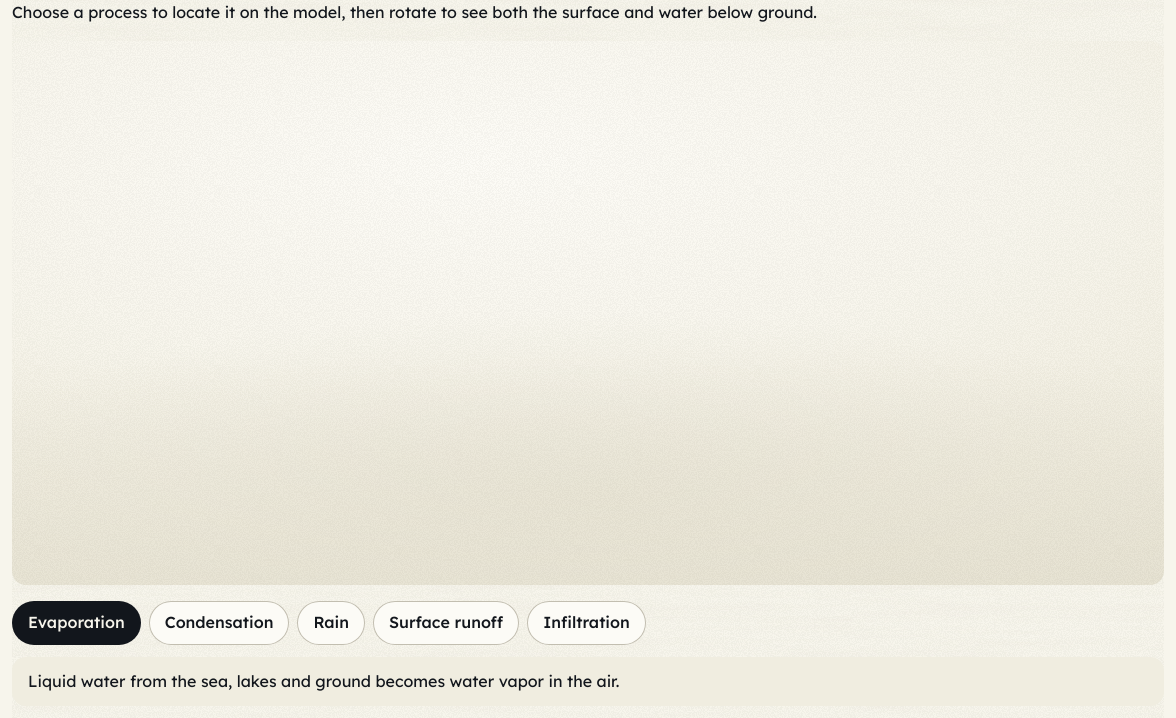
locates the selected process, rotates, and handles context loss
Click the button "Rain": (331, 623) left=297, top=601, right=365, bottom=645
(page scrolled)
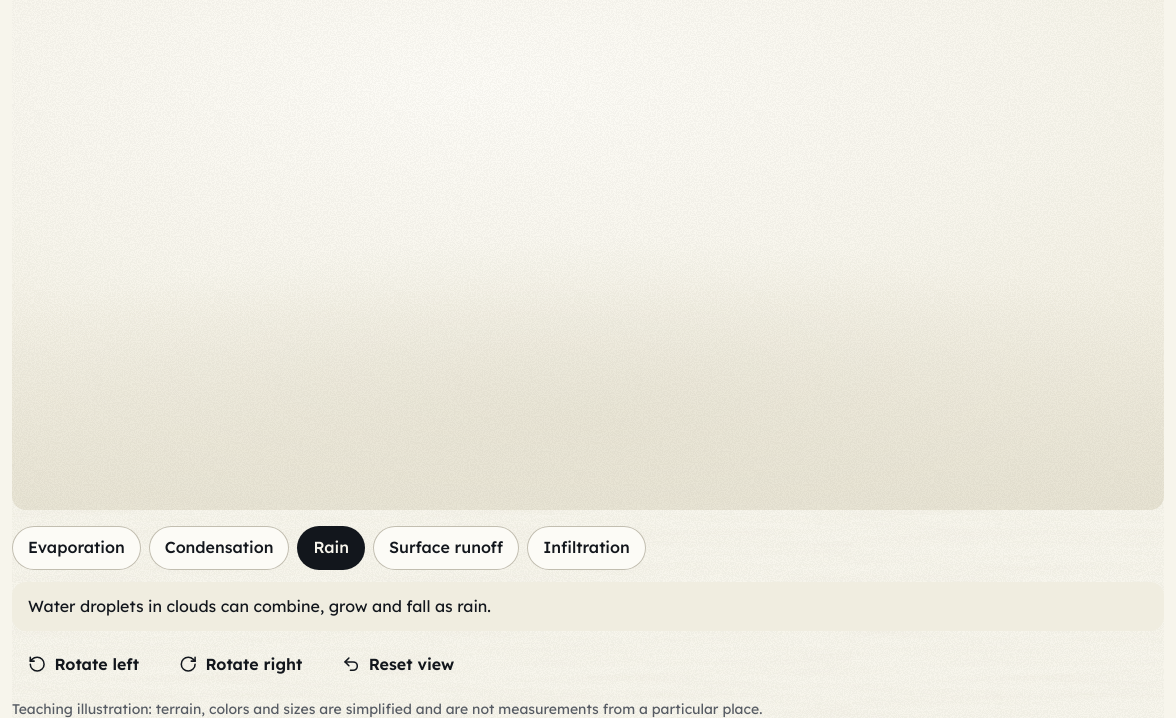
Click the button "Rotate right": (241, 665) left=163, top=643, right=318, bottom=687
(page scrolled)
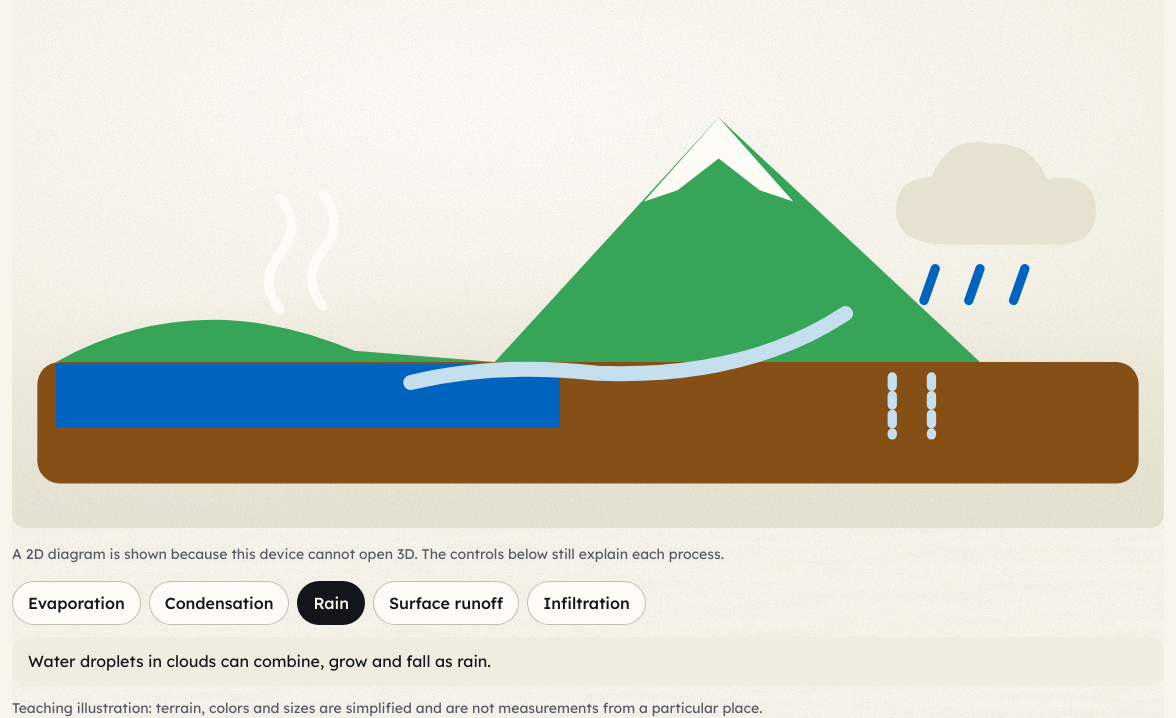
expect the text "2D diagram is shown" is shown: met, box left=12, top=545, right=724, bottom=563
